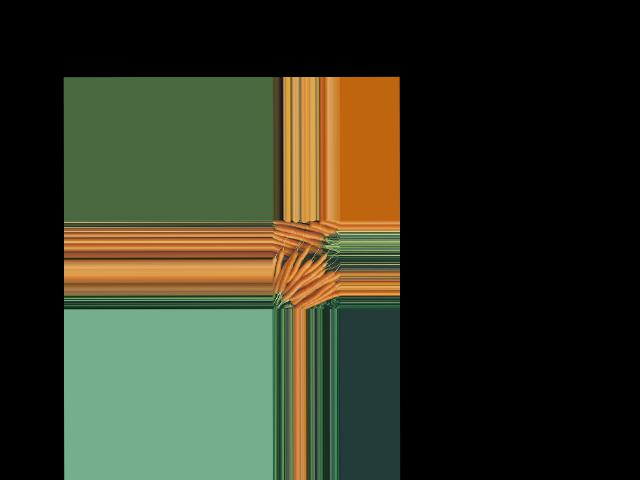carrot: (274, 252, 293, 292)
